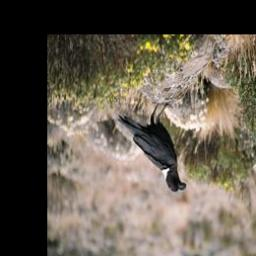Crow: (116, 99, 188, 196)
